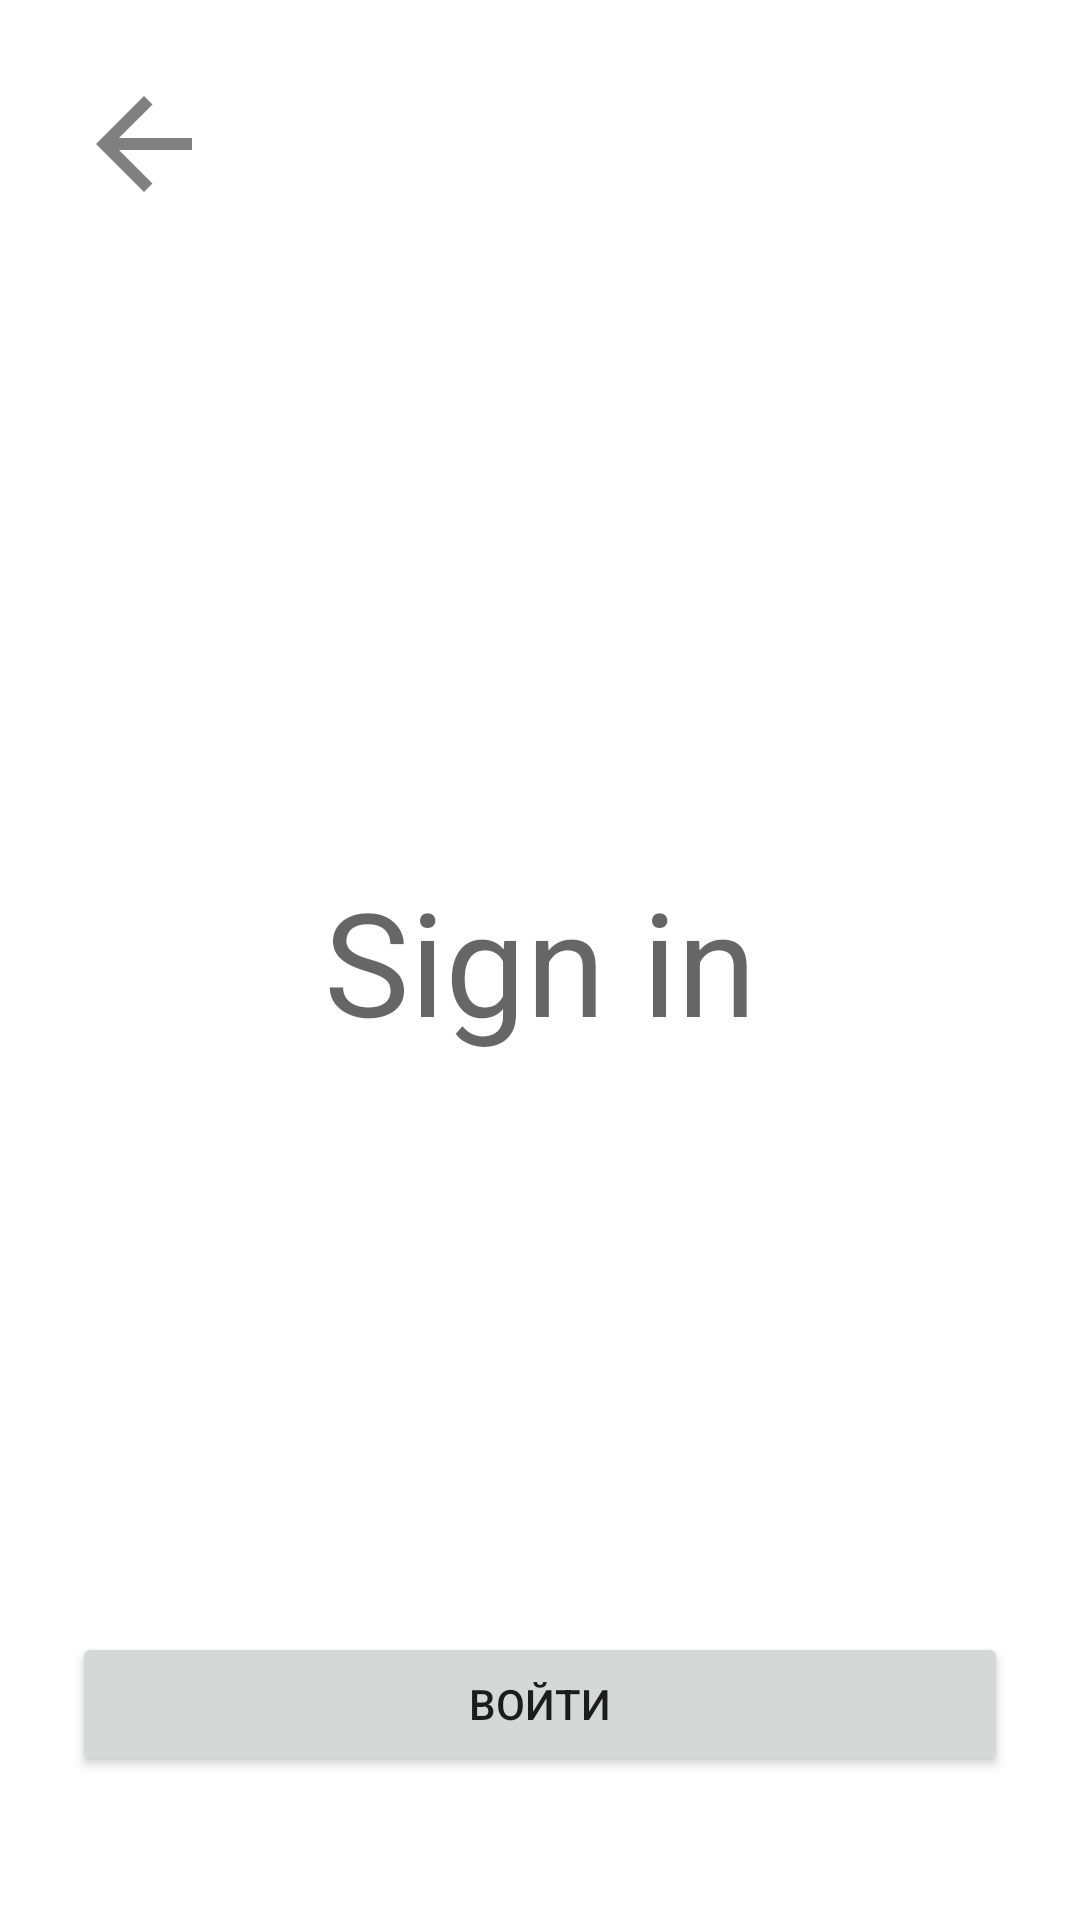

Named icons in this screenshot (1080px×1920px) and their bounding boxes, [left=x1, top=y1, right=x2, bottom=y2]:
arrow back: [left=96, top=96, right=192, bottom=192]
